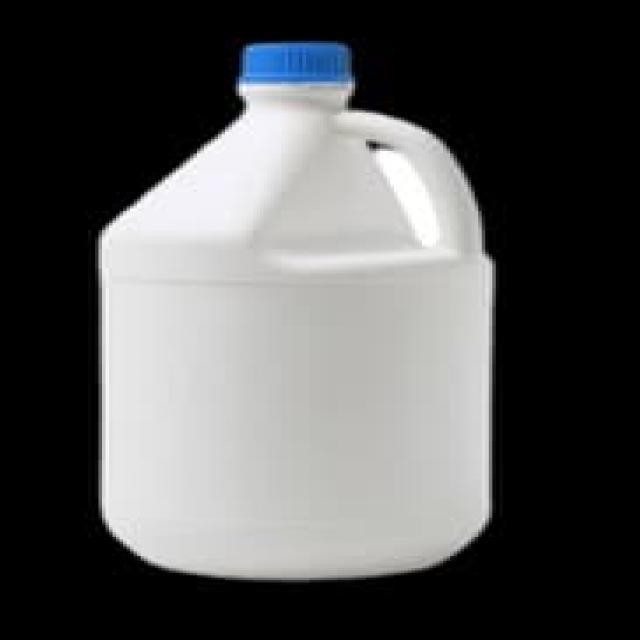HDPE Plastic: (90, 34, 498, 584)
